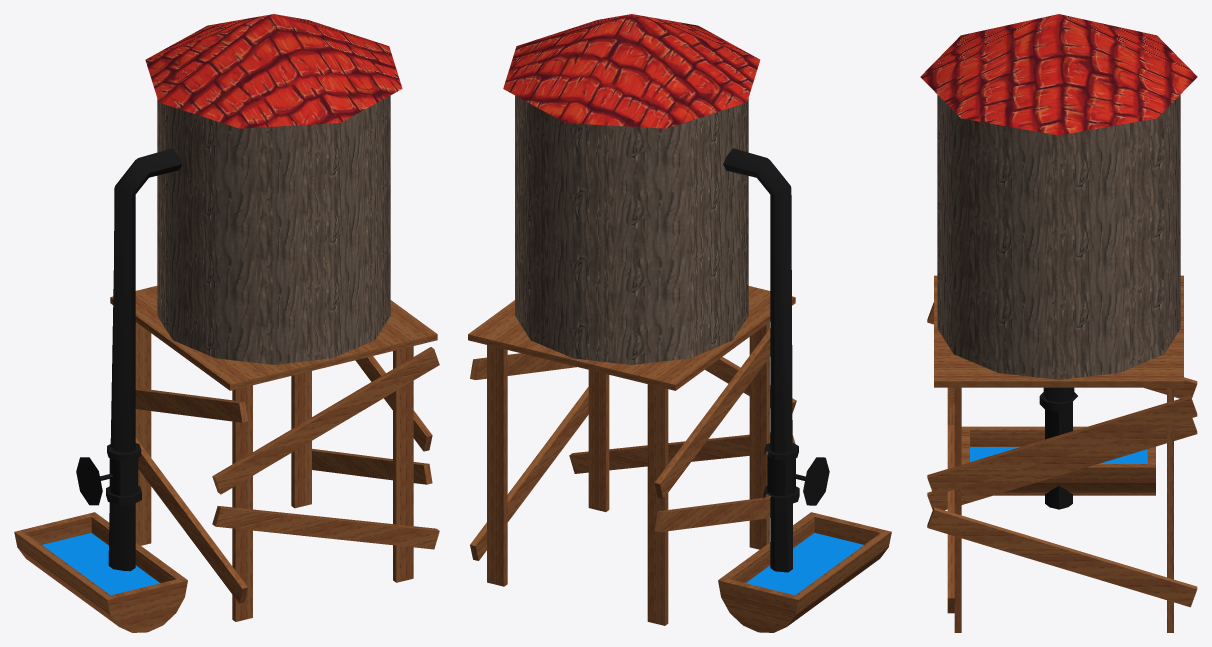
The model's file is FRM0510013.fbx.
3 views of the same model, side by side, from view 1: azimuth 30°, elevation 25°; view 2: azimuth 150°, elevation 25°; view 3: azimuth 270°, elevation 25° (orthographic). The views are drawn at different scales.
Parts seen in each view (by area): view 1: smFRM0510013; view 2: smFRM0510013; view 3: smFRM0510013.
Part boxes in pixels (<box>): smFRM0510013: <box>14,14,439,632</box>; smFRM0510013: <box>468,14,891,632</box>; smFRM0510013: <box>920,14,1197,632</box>.
Size of the model in its own units: 285 by 456 by 200.
Materials: 1 (1 with a texture image).
